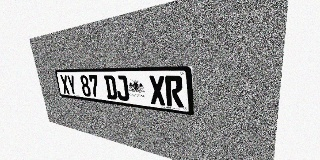7: (88, 75, 100, 98)
8: (79, 75, 91, 97)
D: (104, 75, 118, 100)
J: (115, 75, 129, 101)
R: (165, 76, 184, 108)
X: (148, 76, 166, 106), (60, 75, 70, 94)
Y: (66, 75, 77, 95)
